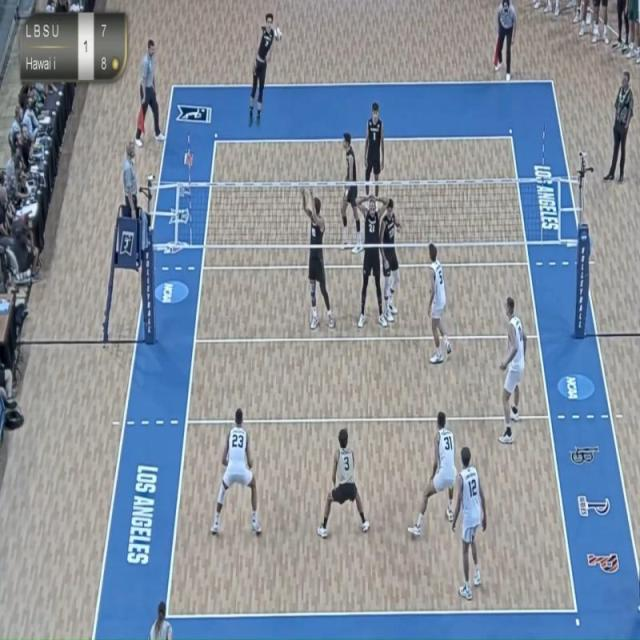volleyball: (272, 22, 285, 46)
